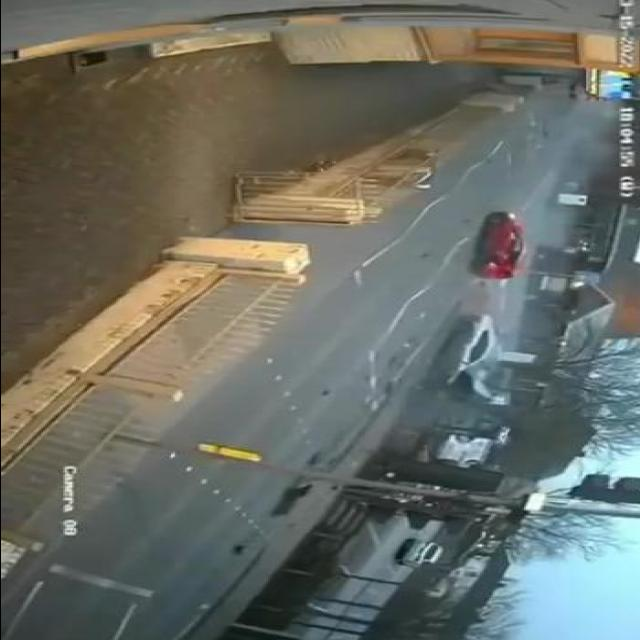accident: (416, 200, 540, 408)
